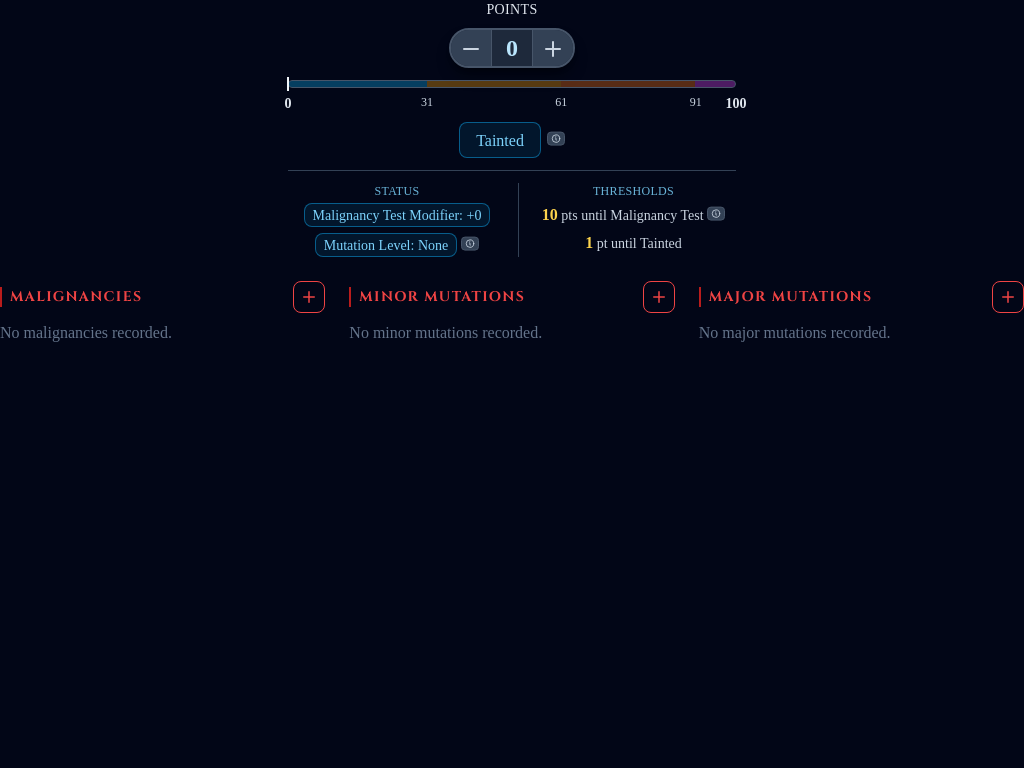
Test case: CorruptionPanel picker wiring › opens the Major Mutation picker from the Major Mutations Add button
Click the button named "Add Major Mutation": (1008, 297) [992,281,1023,313]
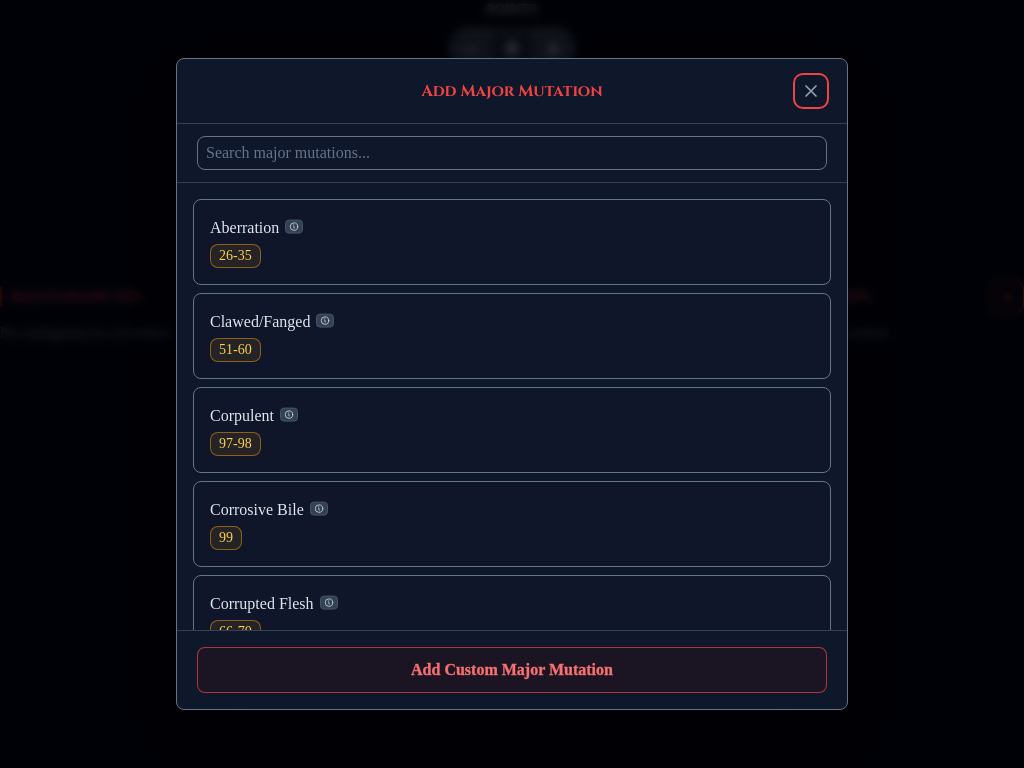
Expected: the dialog "Add Major Mutation" is shown, [176,58,848,710]
